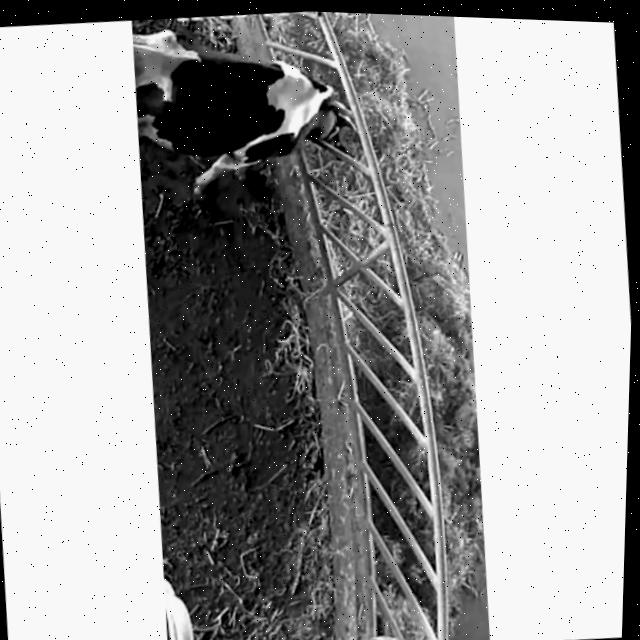eat: (195, 30, 440, 187)
